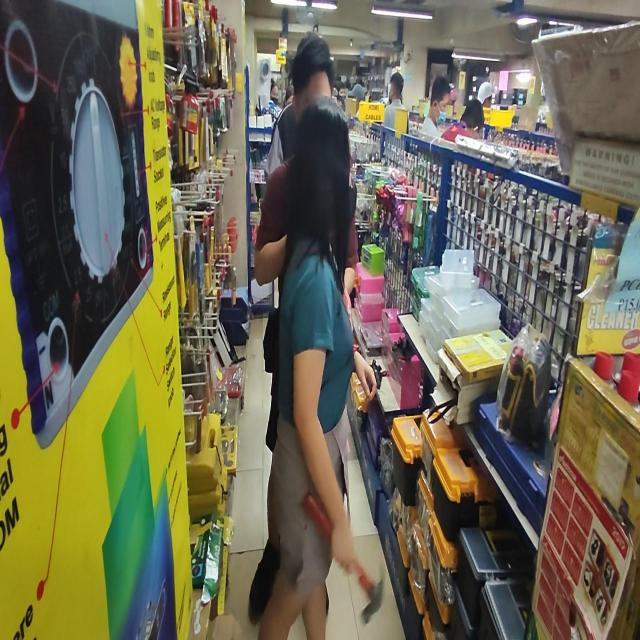hammer: (302, 492, 384, 626)
